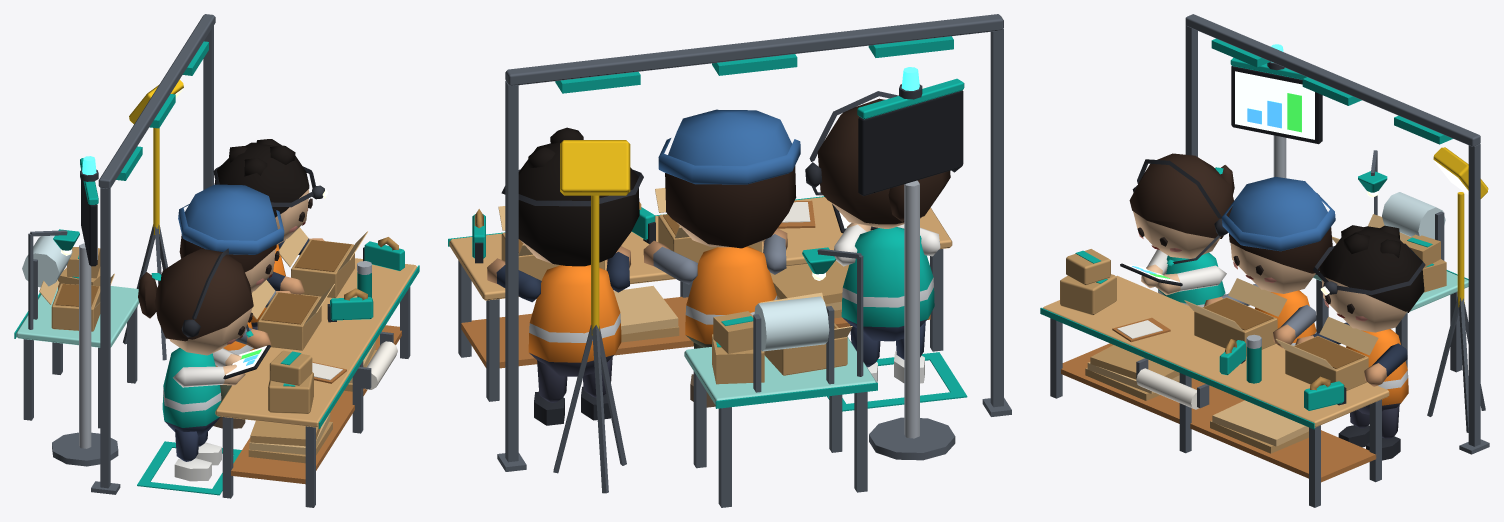
The model's file is station_processing_3.glb.
3 renders of one model, left to right at view 1: azimuth 30°, elevation 25°; view 2: azimuth 150°, elevation 25°; view 3: azimuth 270°, elevation 25°, orthographic. The views are drawn at different scales.
Visible parts, largest first — view 1: station_processing_3; view 2: station_processing_3; view 3: station_processing_3.
Part boxes in pixels (left/top/right/bottom): station_processing_3: left=14, top=14, right=419, bottom=507; station_processing_3: left=448, top=14, right=1011, bottom=507; station_processing_3: left=1040, top=14, right=1489, bottom=507.
Size of the model in its own units: 2.09 by 1.61 by 2.09.
